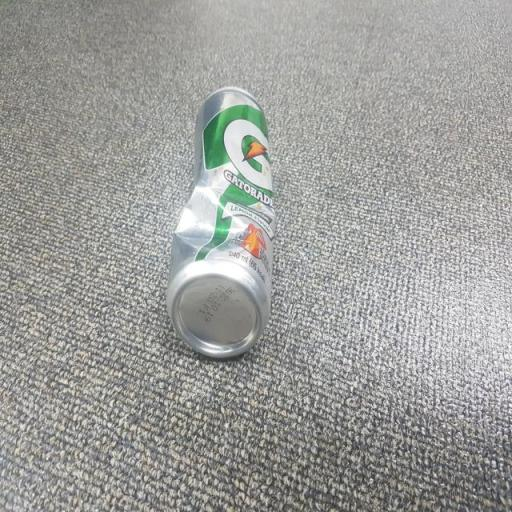metal: (156, 76, 293, 373)
